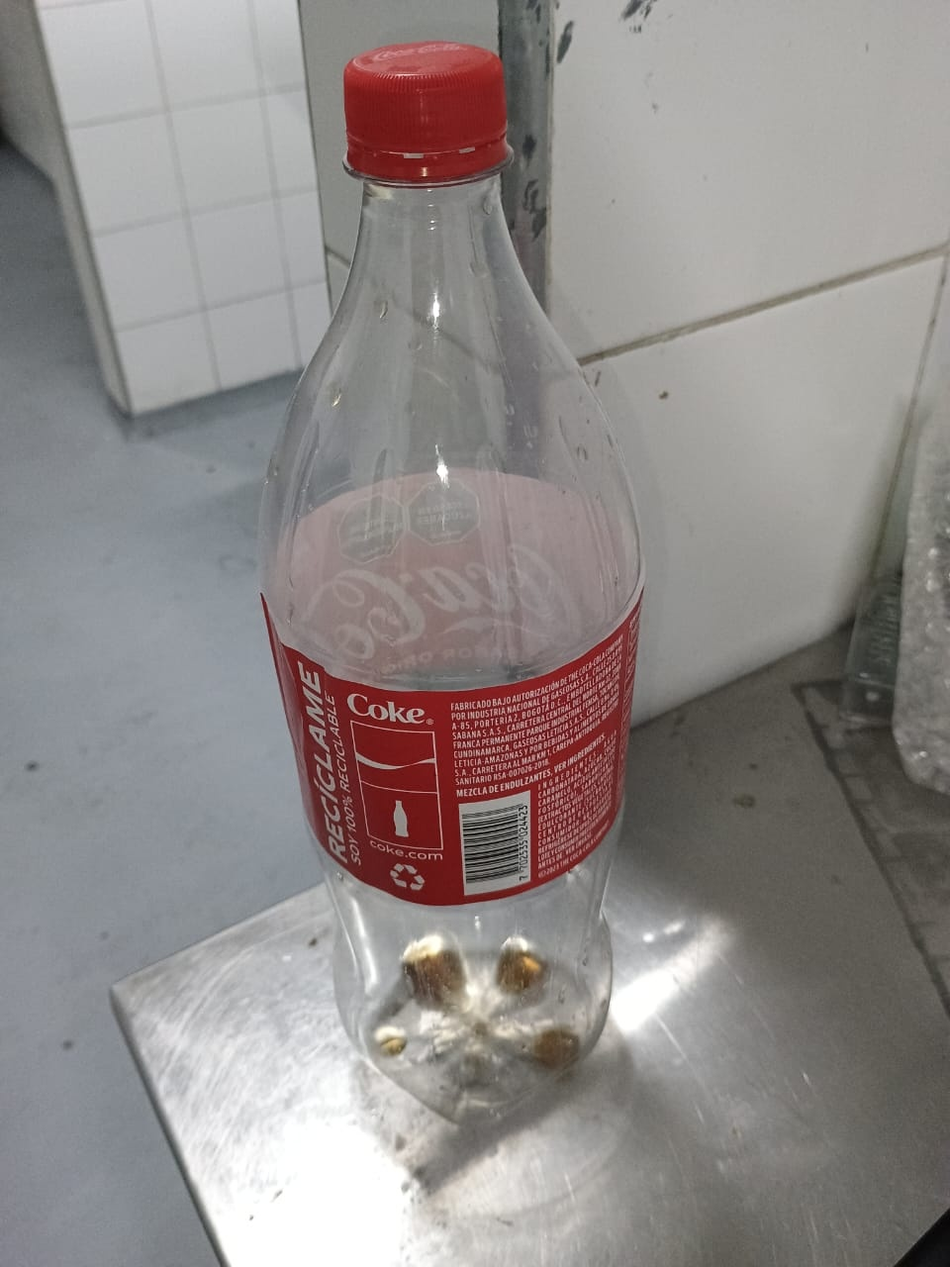Plastico: (258, 42, 638, 1115)
